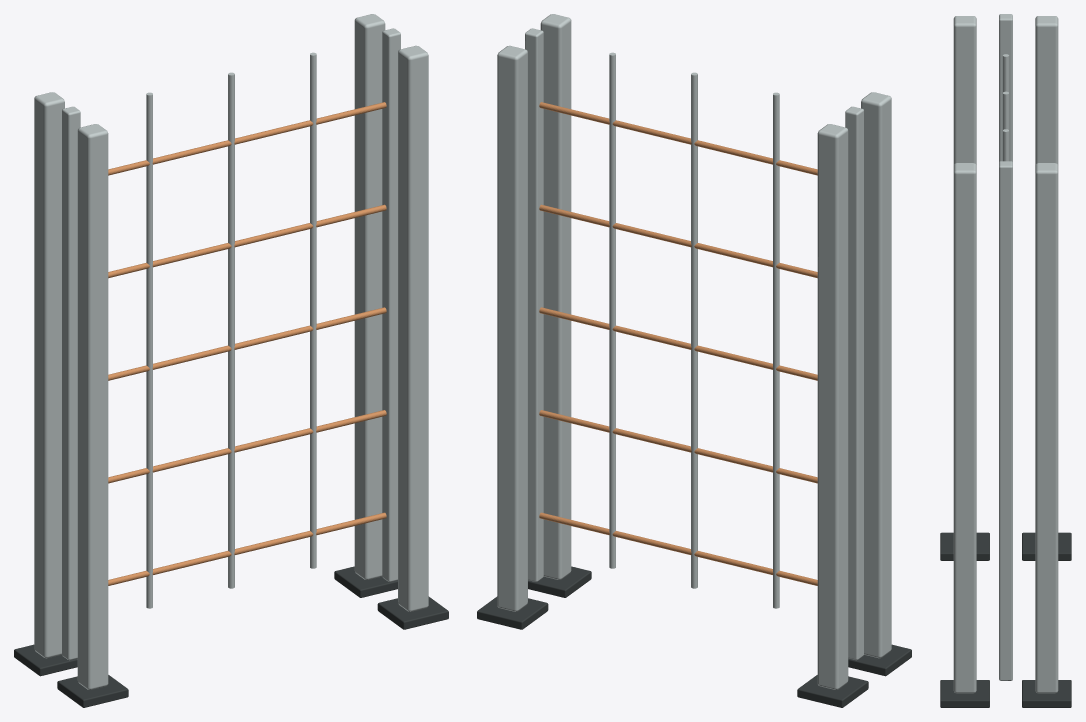
Rendered from generation-ship-hydroponics-generation-ship-hydroponic-8855e5ac__31471.glb.
3 renders of one model, left to right at view 1: azimuth 30°, elevation 25°; view 2: azimuth 150°, elevation 25°; view 3: azimuth 270°, elevation 25°, orthographic. The views are drawn at different scales.
Visible parts, largest first — view 1: generation-ship-hydroponics-trellis-frame; view 2: generation-ship-hydroponics-trellis-frame; view 3: generation-ship-hydroponics-trellis-frame.
Part boxes in pixels (left/top/right/bottom): generation-ship-hydroponics-trellis-frame: left=14, top=14, right=448, bottom=707; generation-ship-hydroponics-trellis-frame: left=477, top=14, right=911, bottom=707; generation-ship-hydroponics-trellis-frame: left=940, top=14, right=1071, bottom=707.
Size of the model in its own units: 1.12 by 1.66 by 0.37.
